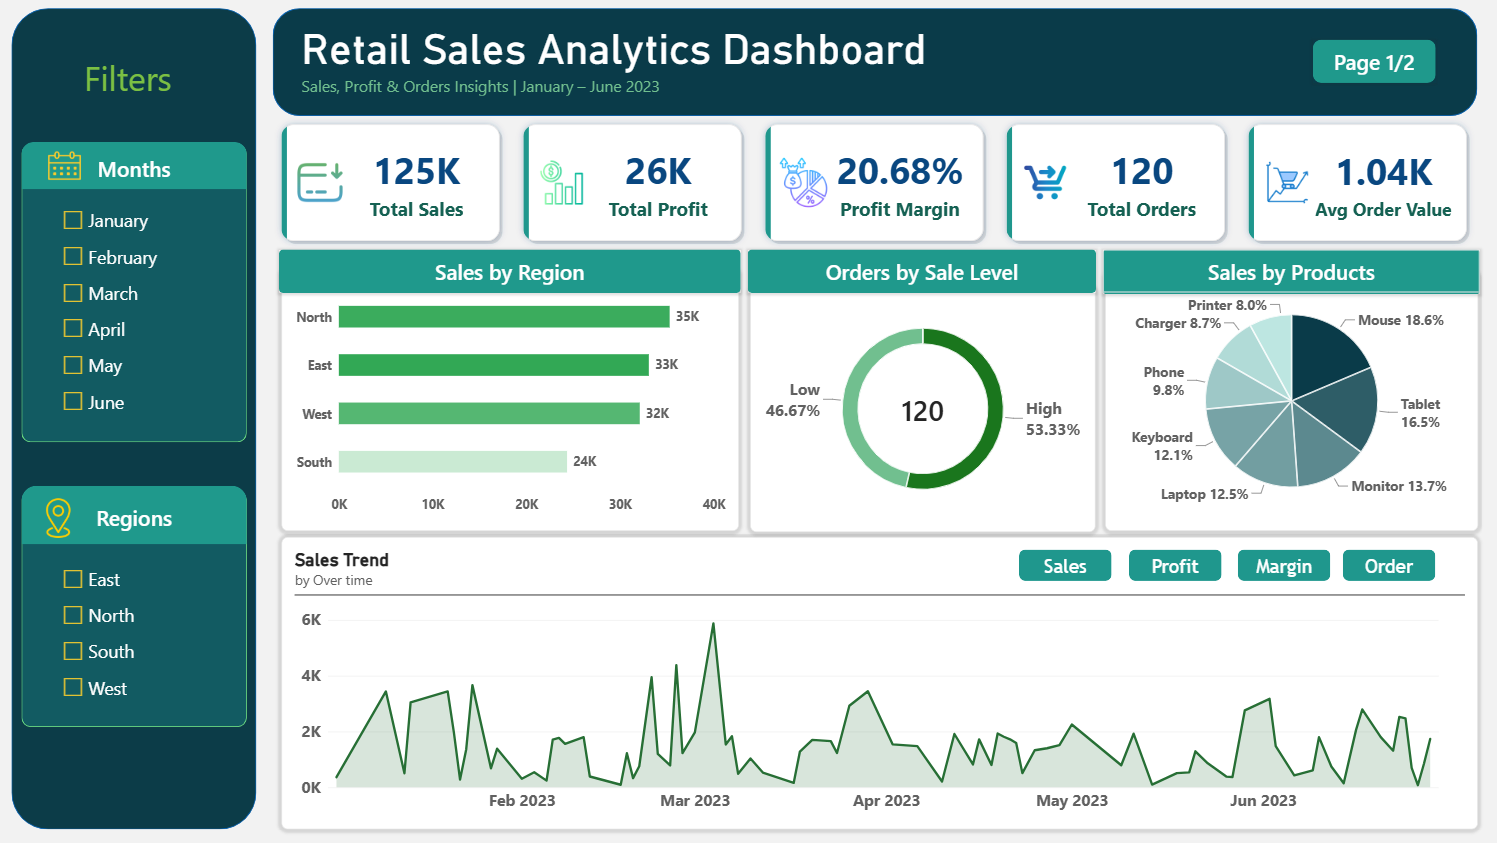

Layout of this report page (visuals, bound fields, positions):
{"tool":"powerbi","page":{"name":"Main ","canvas":[1920,1080],"ordinal":0},"visuals":[{"type":"group","id":"g1","title":"Group 1","box":[28.4,184.8,286,380.2],"z":0,"group":"g3"},{"type":"clusteredBarChart","title":"Savdo ","fields":{"Category":["Retail_Sales.Region"],"Y":["Retail_Sales.Total Sales"]},"box":[358.8,344.6,580.9,334],"z":0},{"type":"group","id":"g2","title":"Group 1","box":[28.4,620,286,460.1],"z":0,"group":"g4"},{"type":"shape","box":[348.2,14.2,1529.5,136.8],"z":1000},{"type":"image","box":[50,192,64,44],"z":1000,"group":"g3"},{"type":"image","box":[38,636,74,50],"z":1000,"group":"g4"},{"type":"shape","box":[16,14.2,310.9,1042.8],"z":2000},{"type":"cardVisual","fields":{"Data":["Retail_Sales.Total Sales","Retail_Sales.Total Profit","Retail_Sales.Profit Margin","Retail_Sales.Total Orders","Retail_Sales.Average Order Value"]},"box":[348.2,151,1529.5,170.5],"z":3000},{"type":"textbox","box":[108.4,53.3,126,114],"z":4000},{"type":"shape","box":[28.4,188.4,286,378],"z":4000,"group":"g1"},{"type":"shape","box":[29.2,625.9,286,300],"z":4000,"group":"g2"},{"type":"textbox","title":"Retail Sales Analytics Dashboard","box":[383.7,35.5,932.6,97.7],"z":5000},{"type":"shape","box":[28.4,184.8,286,60.4],"z":6000,"group":"g1"},{"type":"shape","box":[28.4,620,286,74.6],"z":6000,"group":"g2"},{"type":"lineChart","title":"Sales Trend","fields":{"Category":["Calendar.Date"],"Y":["Retail_Sales.Total Sales"]},"box":[358.8,685.7,1518.9,371.3],"z":6000},{"type":"donutChart","fields":{"Category":["Retail_Sales.Category"],"Y":["CountNonNull(Retail_Sales.Category)"]},"box":[954,367.7,438.8,310.9],"z":7000},{"type":"shape","box":[355.2,320.7,586.2,55.2],"z":8000},{"type":"slicer","fields":{"Values":["Calendar.Month name"]},"box":[74.4,260.4,156.3,294.9],"z":9000,"group":"g1"},{"type":"shape","box":[950.7,321.1,442.3,55.1],"z":9000},{"type":"slicer","fields":{"Values":["Retail_Sales.Region"]},"box":[75.2,715.1,156.3,365.5],"z":9000,"group":"g2"},{"type":"actionButton","box":[1435.1,701.6,117.7,39.9],"z":13000},{"type":"actionButton","box":[1294.6,701.6,117.7,39.9],"z":14000},{"type":"actionButton","box":[1573.7,701.6,117.7,39.9],"z":15000},{"type":"actionButton","box":[1706.8,701.2,117.7,39.9],"z":16000},{"type":"pieChart","fields":{"Category":["Retail_Sales.Product"],"Y":["Retail_Sales.Total Sales"]},"box":[1404,349.4,473.8,329],"z":17000},{"type":"shape","box":[1401.6,320.1,479.3,56.8],"z":18000},{"type":"group","id":"g3","title":"Group 2","box":[28.4,184.8,286,380.2],"z":19000},{"type":"group","id":"g4","title":"Group 3","box":[28.4,620,286,460.1],"z":20000},{"type":"shape","box":[1668,53.3,156.3,55.2],"z":21000}]}

Visuals, with their boxes in screenshot pixels (x1, y1, x2, y2), scaled from the page's 1920x1080 canvas onto the 1497x843 screenshot:
"Group 1" group: [left=22, top=144, right=245, bottom=441]
"Savdo " clusteredBarChart: [left=280, top=269, right=733, bottom=530]
"Group 1" group: [left=22, top=484, right=245, bottom=842]
shape: [left=271, top=11, right=1464, bottom=118]
image: [left=39, top=150, right=89, bottom=184]
image: [left=30, top=496, right=87, bottom=535]
shape: [left=12, top=11, right=255, bottom=825]
cardVisual - Retail_Sales.Total Sales x Retail_Sales.Total Profit: [left=271, top=118, right=1464, bottom=251]
textbox: [left=85, top=42, right=183, bottom=131]
shape: [left=22, top=147, right=245, bottom=442]
shape: [left=23, top=489, right=246, bottom=723]
"Retail Sales Analytics Dashboard" textbox: [left=299, top=28, right=1026, bottom=104]
shape: [left=22, top=144, right=245, bottom=191]
shape: [left=22, top=484, right=245, bottom=542]
"Sales Trend" lineChart: [left=280, top=535, right=1464, bottom=825]
donutChart - Retail_Sales.Category x CountNonNull(Retail_Sales.Category): [left=744, top=287, right=1086, bottom=530]
shape: [left=277, top=250, right=734, bottom=293]
slicer - Calendar.Month name: [left=58, top=203, right=180, bottom=433]
shape: [left=741, top=251, right=1086, bottom=294]
slicer - Retail_Sales.Region: [left=59, top=558, right=180, bottom=842]
actionButton: [left=1119, top=548, right=1211, bottom=579]
actionButton: [left=1009, top=548, right=1101, bottom=579]
actionButton: [left=1227, top=548, right=1319, bottom=579]
actionButton: [left=1331, top=547, right=1423, bottom=578]
pieChart - Retail_Sales.Product x Retail_Sales.Total Sales: [left=1095, top=273, right=1464, bottom=530]
shape: [left=1093, top=250, right=1467, bottom=294]
"Group 2" group: [left=22, top=144, right=245, bottom=441]
"Group 3" group: [left=22, top=484, right=245, bottom=842]
shape: [left=1301, top=42, right=1422, bottom=85]
